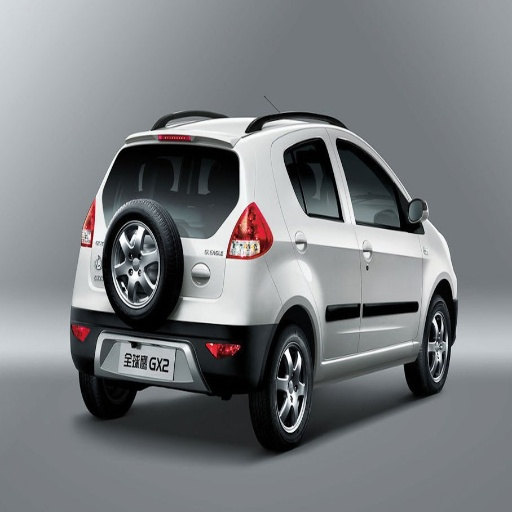back_bumper: (164, 251, 282, 386), (73, 325, 119, 371)
back_right_door: (279, 129, 360, 362)
trunk: (181, 221, 232, 273)
